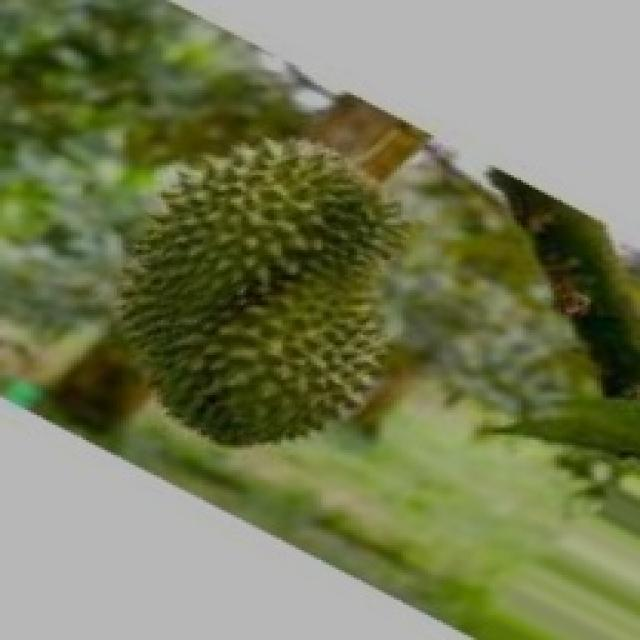fruit: (43, 98, 446, 502)
